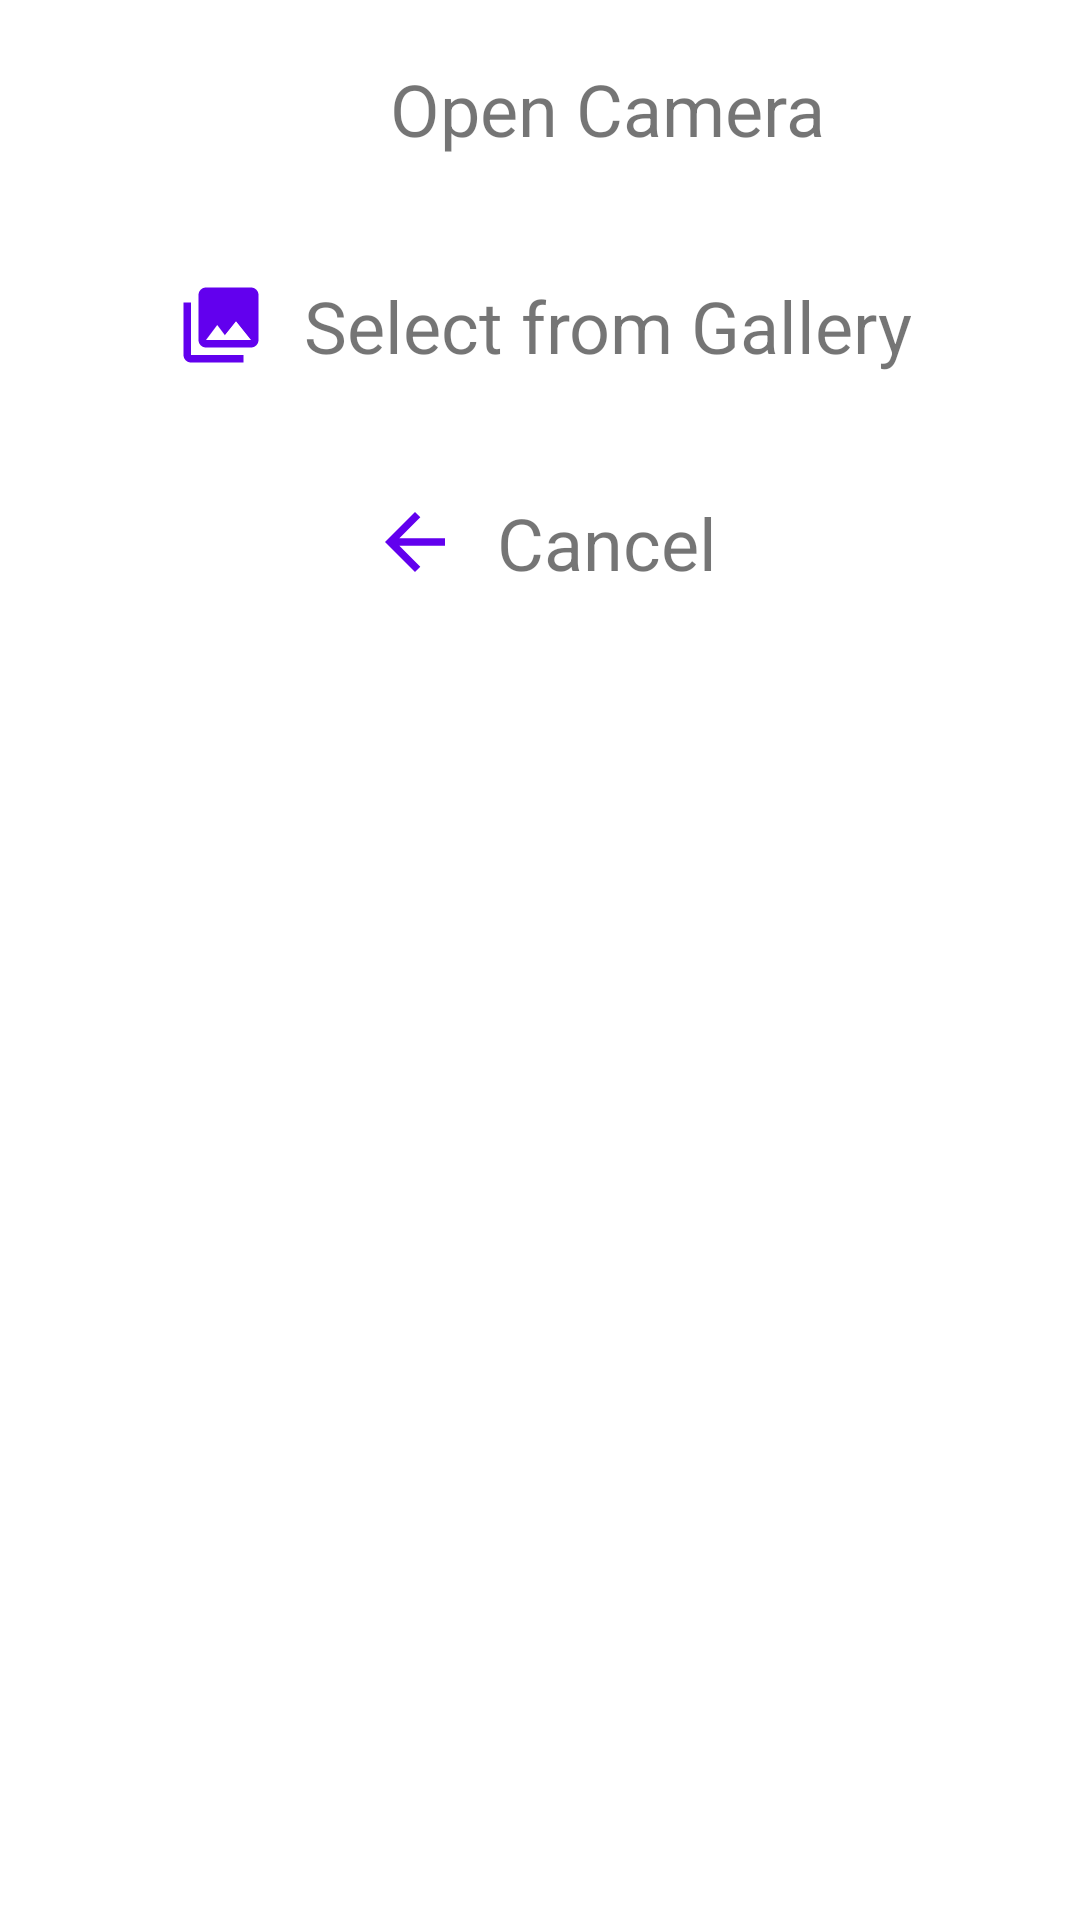

Named icons in this screenshot (1080*1920) and their centers, point (x, y):
arrow back: point (415, 542)
photo library: point (221, 325)
